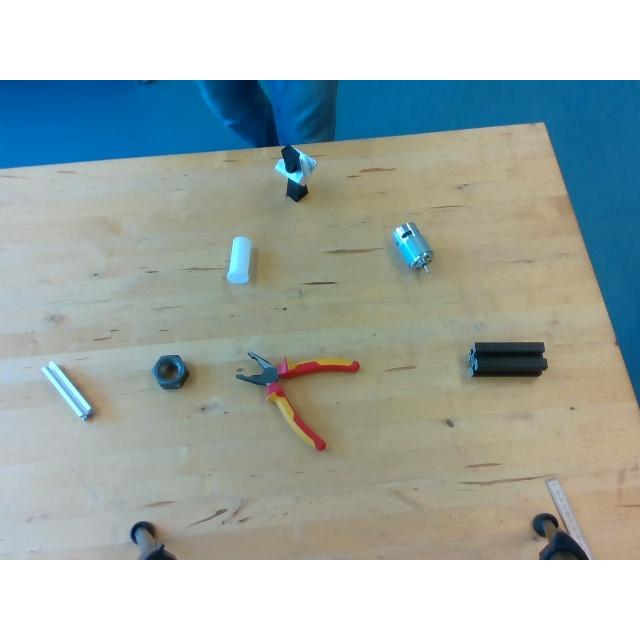F20_20_G: (42, 361, 92, 419)
M30: (152, 354, 188, 386)
Motor2: (392, 222, 432, 270)
S40_40_B: (470, 341, 546, 375)
Spacer: (226, 236, 250, 282)
